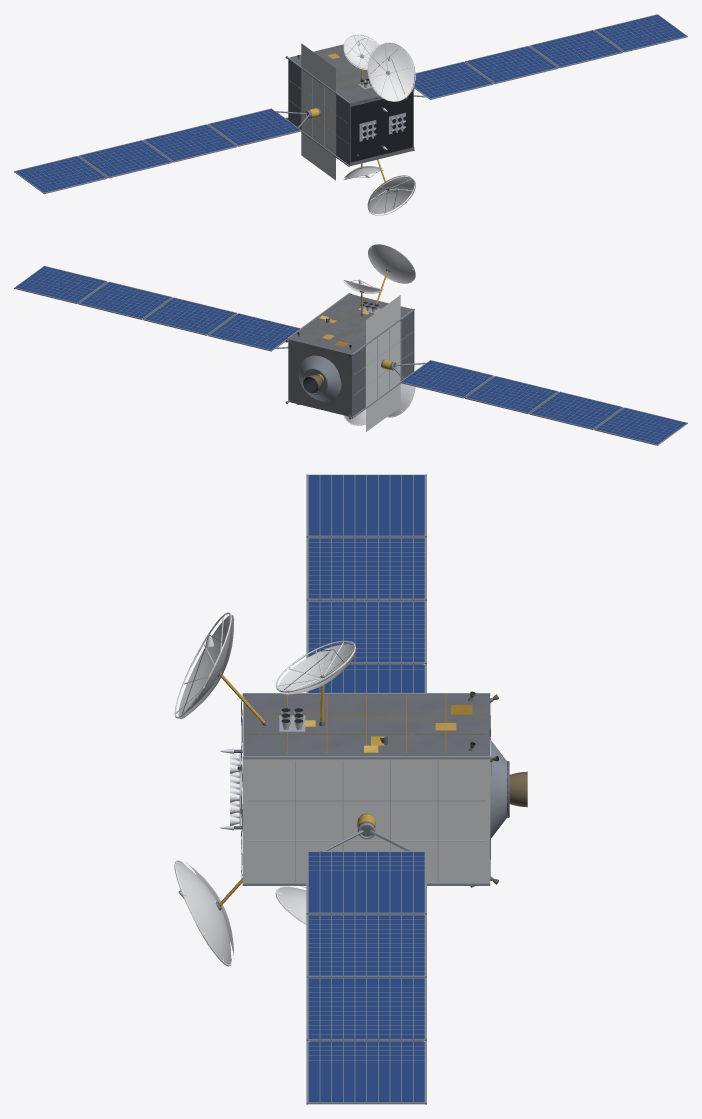
Rendered from bus-ds2000.glb.
3 views of the same model, one above another, from view 1: azimuth 30°, elevation 25°; view 2: azimuth 150°, elevation 25°; view 3: azimuth 270°, elevation 25° (orthographic). The views are drawn at different scales.
Parts seen in each view (by area): view 1: body, solar-panel, foil; view 2: body, solar-panel, foil; view 3: body, solar-panel, foil.
Part boxes in pixels (left/top/right/bottom): body: left=14, top=14, right=687, bottom=215; solar-panel: left=15, top=15, right=686, bottom=192; foil: left=289, top=44, right=414, bottom=181; body: left=14, top=244, right=687, bottom=445; solar-panel: left=15, top=266, right=686, bottom=444; foil: left=288, top=270, right=414, bottom=416; body: left=174, top=474, right=527, bottom=1104; solar-panel: left=308, top=475, right=424, bottom=1102; foil: left=219, top=673, right=491, bottom=906.
Bounding box in the file's own units: 30.02 × 7.67 × 7.13.
